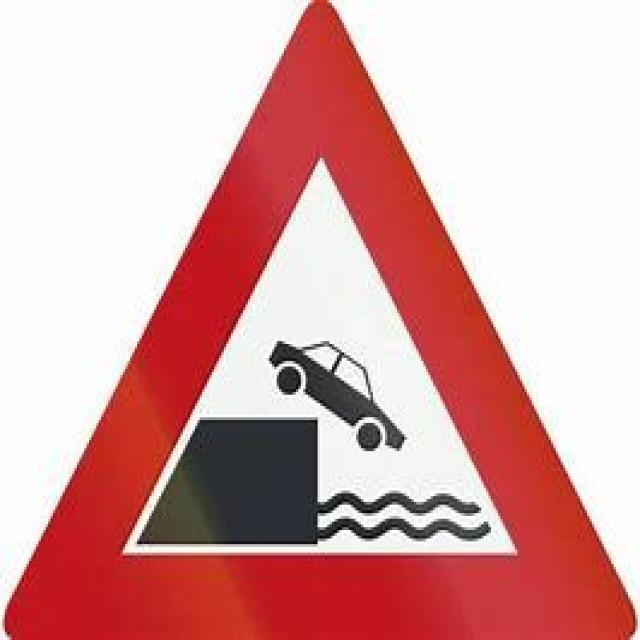quay side or river bank: (21, 18, 618, 623)
